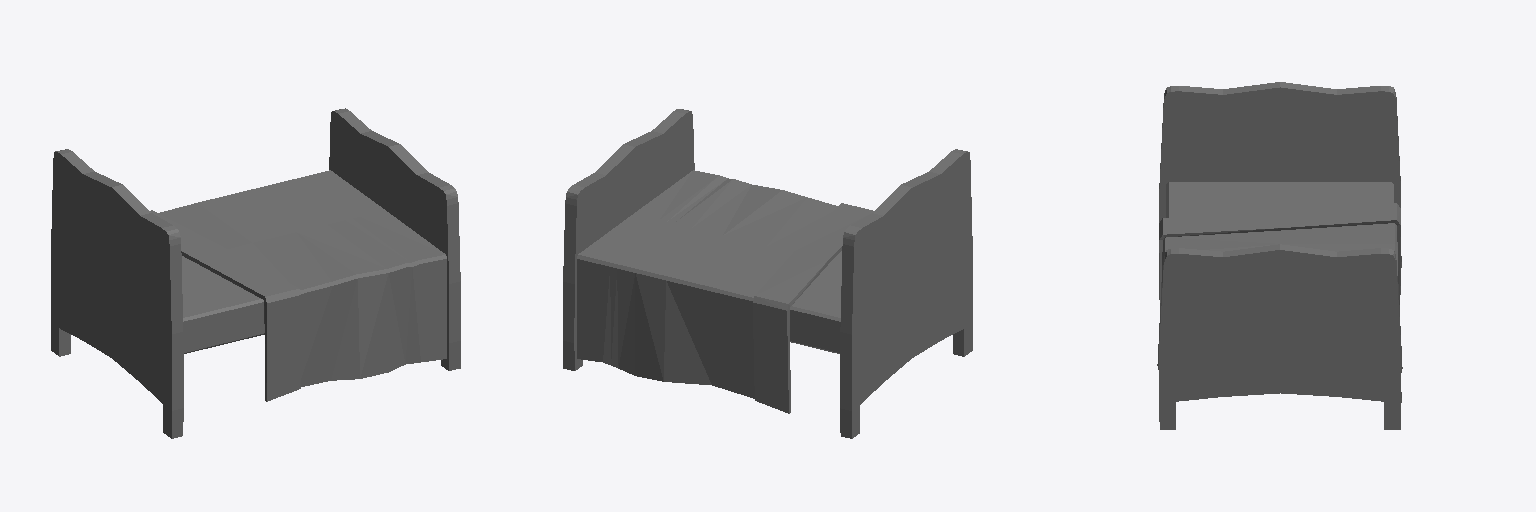
Rendered from CAMA.obj.
3 renders of one model, left to right at view 1: azimuth 30°, elevation 25°; view 2: azimuth 150°, elevation 25°; view 3: azimuth 270°, elevation 25°, orthographic.
Parts seen in each view (by area): view 1: Pies_Cama; view 2: Pies_Cama; view 3: Pies_Cama.
Boxes of the visible parts, box(x1,y1,x2,y2) form: Pies_Cama: box(51, 108, 460, 438); Pies_Cama: box(563, 109, 972, 438); Pies_Cama: box(1157, 82, 1402, 429).
Size of the model in its own units: 98.08 by 67.31 by 72.07.